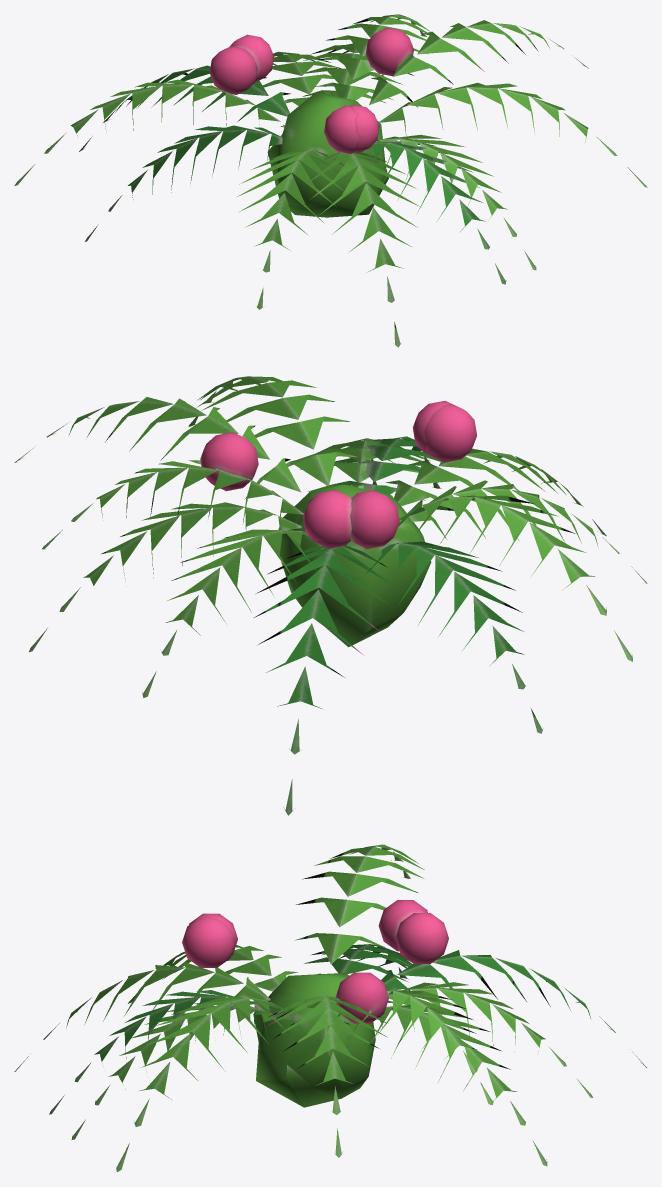
Rendered from sd_desert_shrub.glb.
The picture shows the model from 3 angles, top to bottom: view 1: azimuth 30°, elevation 25°; view 2: azimuth 150°, elevation 25°; view 3: azimuth 270°, elevation 25°; orthographic projection. The views are drawn at different scales.
Parts seen in each view (by area): view 1: sd_desert_shrub; view 2: sd_desert_shrub; view 3: sd_desert_shrub.
Part boxes in pixels (left/top/right/bottom): sd_desert_shrub: left=14, top=14, right=647, bottom=347; sd_desert_shrub: left=14, top=376, right=647, bottom=815; sd_desert_shrub: left=14, top=844, right=646, bottom=1172.
Bounding box in the file's own units: 2.44 × 0.7499 × 2.26.
Materials: 3 (3 with a texture image).
